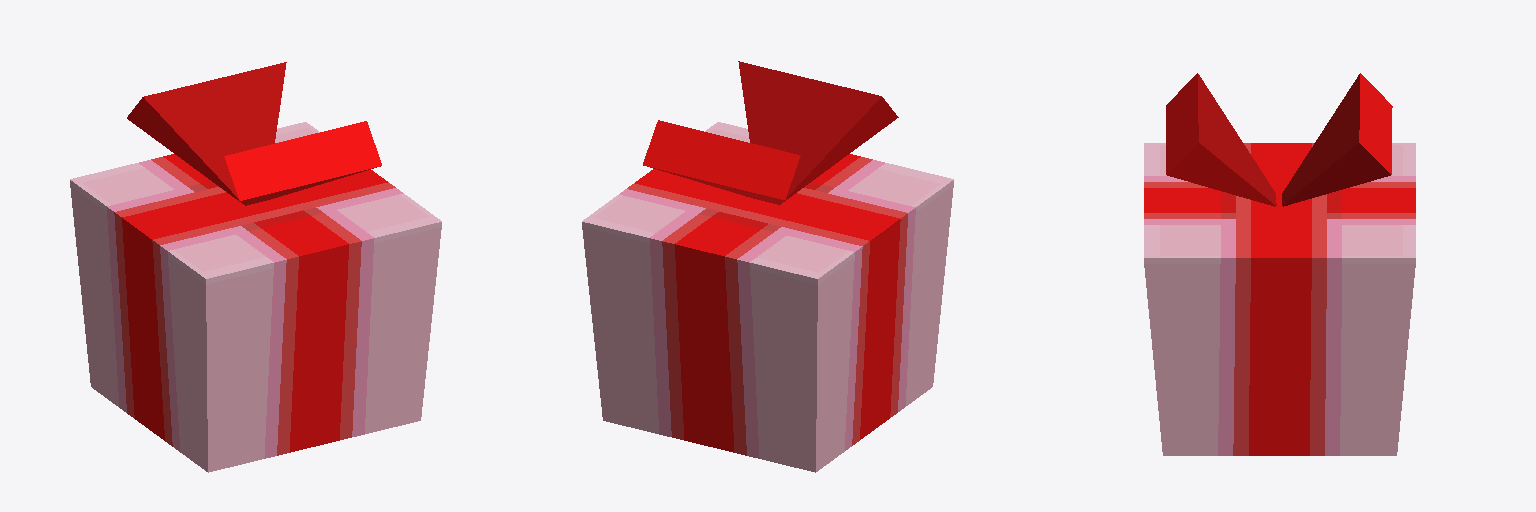
The picture shows the model from 3 angles: view 1: azimuth 30°, elevation 25°; view 2: azimuth 150°, elevation 25°; view 3: azimuth 270°, elevation 25°; orthographic projection.
Visible parts, largest first — view 1: polygon0.069; view 2: polygon0.069; view 3: polygon0.069.
Boxes of the visible parts, x1=… form: polygon0.069: x1=70, y1=62, x2=441, y2=472; polygon0.069: x1=582, y1=61, x2=953, y2=472; polygon0.069: x1=1144, y1=73, x2=1415, y2=455.
Bounding box in the file's own units: 1 × 1.2 × 1.
1 materials, 1 textured.